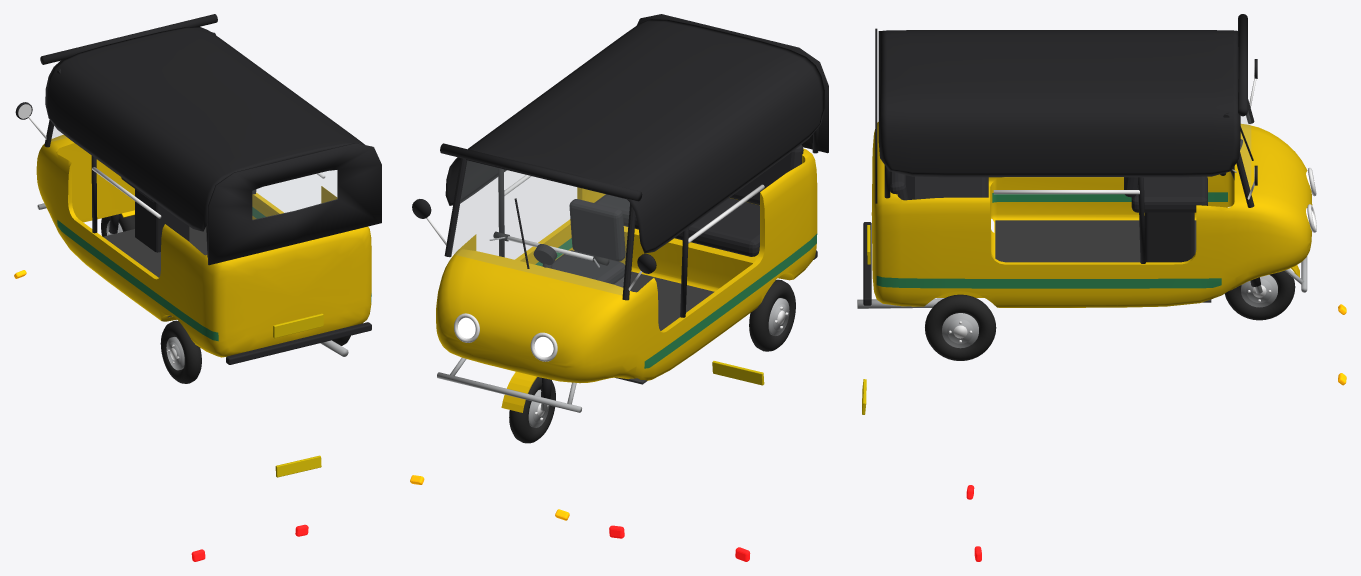
File: auto_rickshaw_lod1.glb
3 views of the same model, side by side, from view 1: azimuth 30°, elevation 25°; view 2: azimuth 150°, elevation 25°; view 3: azimuth 270°, elevation 25° (orthographic). The views are drawn at different scales.
Parts seen in each view (by area): view 1: auto_body, wheel_rear_left; view 2: auto_body, wheel_rear_left, wheel_front; view 3: auto_body, wheel_rear_right, wheel_front.
Boxes of the visible parts, bbox=[...] form: auto_body: bbox=[14, 14, 381, 561]; wheel_rear_left: bbox=[160, 320, 201, 383]; auto_body: bbox=[410, 14, 828, 561]; wheel_rear_left: bbox=[749, 279, 795, 351]; wheel_front: bbox=[509, 377, 555, 443]; auto_body: bbox=[857, 14, 1346, 561]; wheel_rear_right: bbox=[925, 294, 996, 360]; wheel_front: bbox=[1225, 270, 1295, 320].
Bounding box in the file's own units: 1.64 × 3.12 × 2.95.
